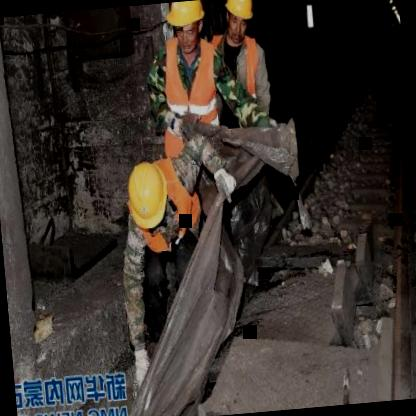helmet: (123, 157, 174, 241), (163, 0, 211, 54), (221, 0, 257, 42)
